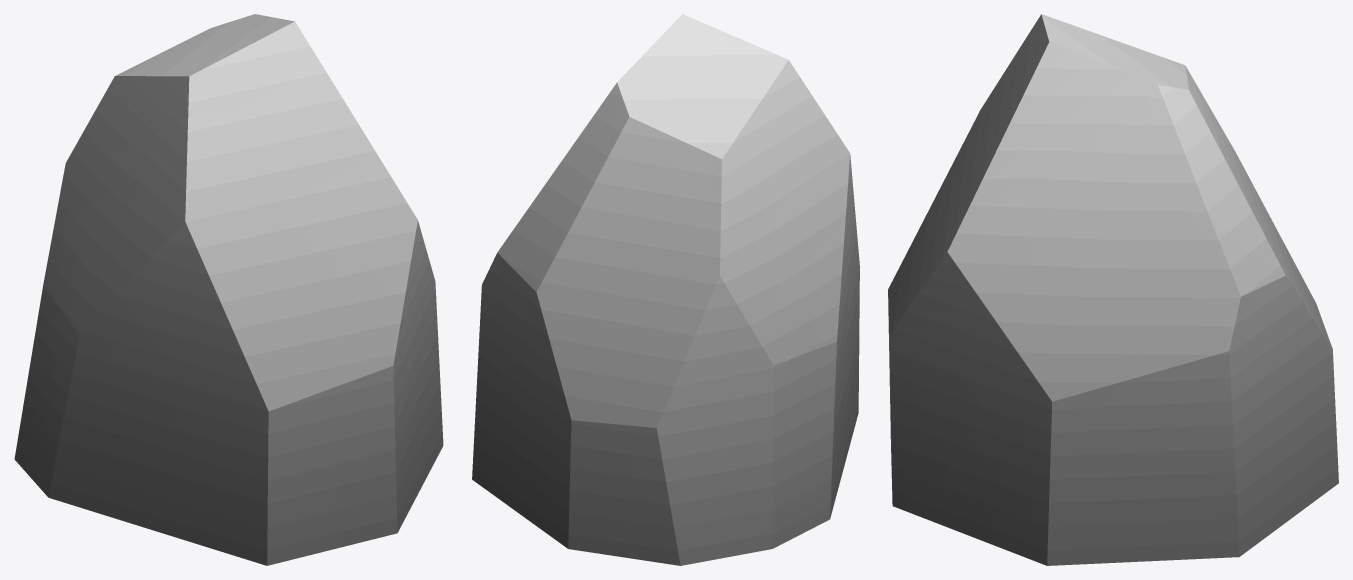
Rendered from stone_1.glb.
3 renders of one model, left to right at view 1: azimuth 30°, elevation 25°; view 2: azimuth 150°, elevation 25°; view 3: azimuth 270°, elevation 25°, orthographic. The views are drawn at different scales.
Parts seen in each view (by area): view 1: stone 1; view 2: stone 1; view 3: stone 1.
Part boxes in pixels (x1=…): stone 1: x1=14, y1=14, x2=443, y2=565; stone 1: x1=472, y1=14, x2=859, y2=565; stone 1: x1=888, y1=14, x2=1338, y2=565.
Bounding box in the file's own units: 0.5143 × 0.6457 × 0.5824.
1 material, 1 textured.
